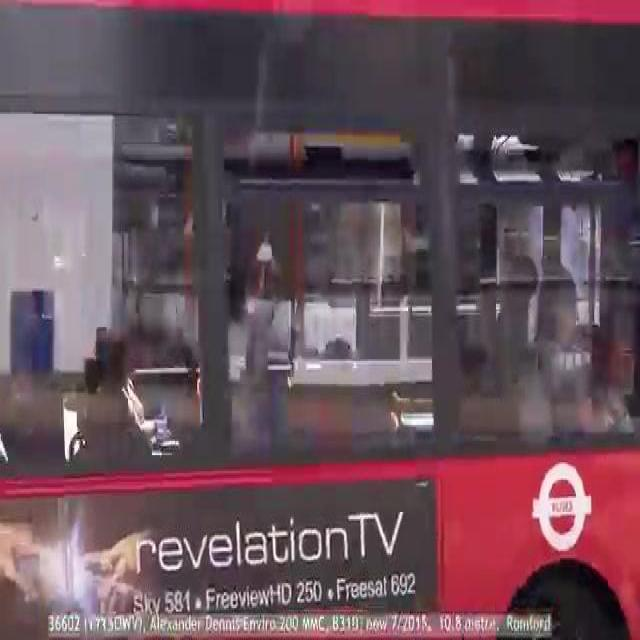bus: (1, 8, 640, 636)
